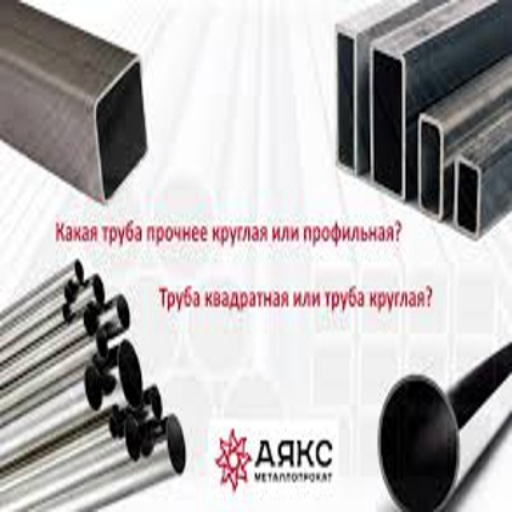Square: (380, 380, 451, 510), (98, 70, 144, 192), (375, 53, 400, 191), (337, 39, 352, 166), (421, 125, 439, 212), (119, 343, 140, 406), (459, 164, 476, 230), (168, 417, 184, 471), (126, 420, 139, 456), (87, 369, 99, 407), (117, 297, 130, 327), (151, 389, 162, 416), (93, 276, 104, 300), (97, 331, 106, 356), (84, 311, 92, 331), (76, 262, 83, 282), (110, 419, 116, 433), (62, 307, 68, 315), (64, 288, 68, 298), (114, 407, 119, 415), (68, 281, 72, 286)
